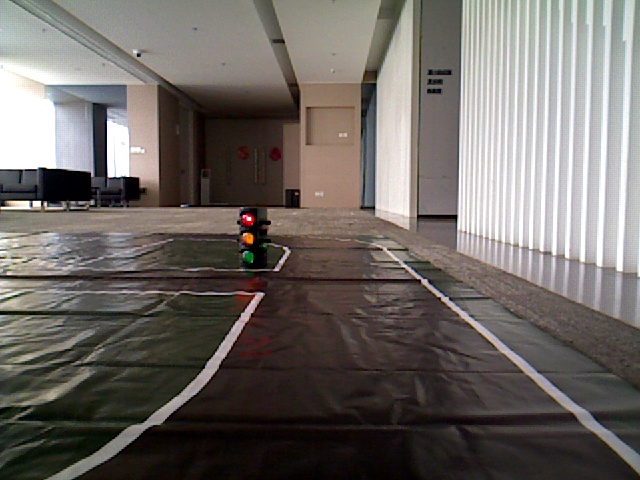red: (239, 210, 261, 264)
